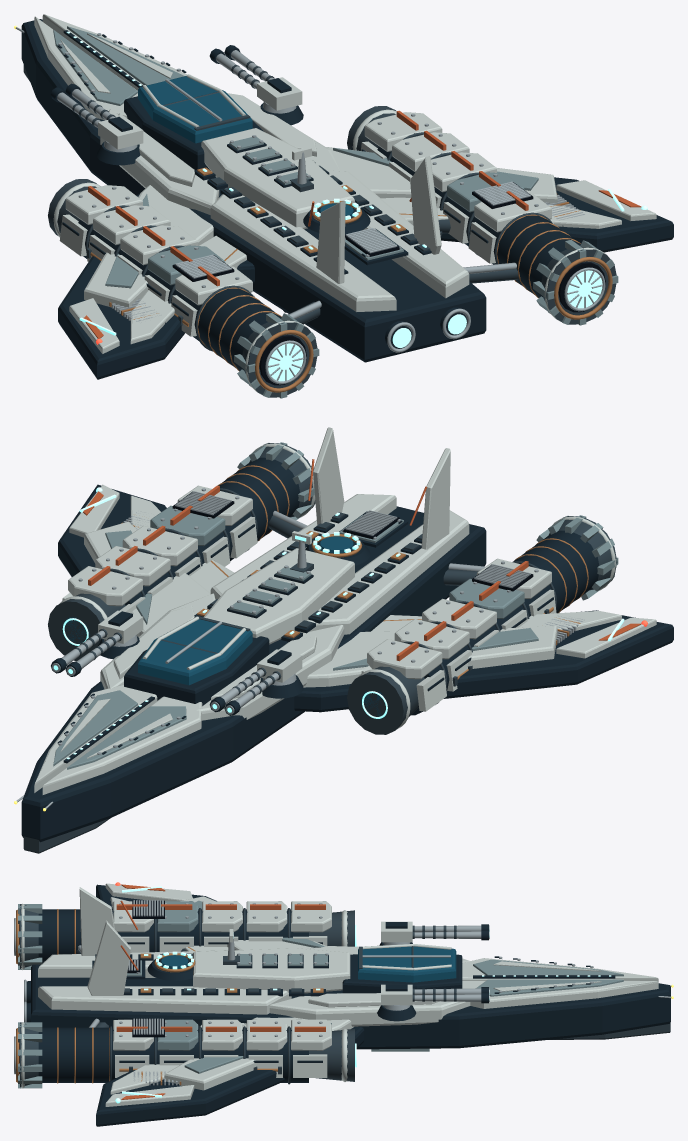
File: peregrine.glb
3 renders of one model, top to bottom at view 1: azimuth 30°, elevation 25°; view 2: azimuth 150°, elevation 25°; view 3: azimuth 270°, elevation 25°, orthographic. The views are drawn at different scales.
Visible parts, largest first — view 1: P04_armor_batch, P04_dark_batch, P04_secondary_batch, P04_silver_batch, P04_frame_batch, P04_glass_batch, P04_copper_batch, P04_light_batch, P04_orange_batch, P04_black_batch; view 2: P04_armor_batch, P04_dark_batch, P04_secondary_batch, P04_frame_batch, P04_silver_batch, P04_glass_batch, P04_orange_batch, P04_copper_batch, P04_light_batch, P04_black_batch; view 3: P04_armor_batch, P04_dark_batch, P04_secondary_batch, P04_frame_batch, P04_silver_batch, P04_glass_batch, P04_orange_batch, P04_copper_batch, P04_black_batch, P04_light_batch.
Part boxes in pixels (x1,y1,x2,y2): P04_armor_batch: [34, 14, 656, 394]; P04_dark_batch: [21, 19, 673, 379]; P04_secondary_batch: [53, 26, 618, 398]; P04_silver_batch: [15, 27, 605, 384]; P04_frame_batch: [23, 61, 616, 397]; P04_glass_batch: [138, 76, 353, 217]; P04_copper_batch: [90, 167, 612, 392]; P04_light_batch: [66, 31, 647, 381]; P04_orange_batch: [83, 110, 641, 338]; P04_black_batch: [172, 182, 605, 385]; P04_armor_batch: [34, 427, 656, 794]; P04_dark_batch: [21, 457, 673, 842]; P04_secondary_batch: [53, 442, 618, 769]; P04_frame_batch: [23, 443, 617, 853]; P04_silver_batch: [16, 488, 584, 808]; P04_glass_batch: [63, 536, 384, 719]; P04_orange_batch: [83, 459, 641, 661]; P04_copper_batch: [121, 465, 588, 679]; P04_light_batch: [53, 487, 624, 759]; P04_black_batch: [172, 491, 533, 591]; P04_armor_batch: [21, 883, 658, 1106]; P04_dark_batch: [26, 884, 670, 1126]; P04_secondary_batch: [18, 900, 623, 1088]; P04_frame_batch: [20, 904, 670, 1087]; P04_silver_batch: [14, 900, 671, 1085]; P04_glass_batch: [161, 946, 456, 982]; P04_orange_batch: [116, 884, 325, 1099]; P04_copper_batch: [16, 909, 323, 1085]; P04_black_batch: [19, 900, 164, 1073]; P04_light_batch: [115, 886, 611, 1103].
Size of the model in its own units: 14.81 by 4.02 by 18.09.
